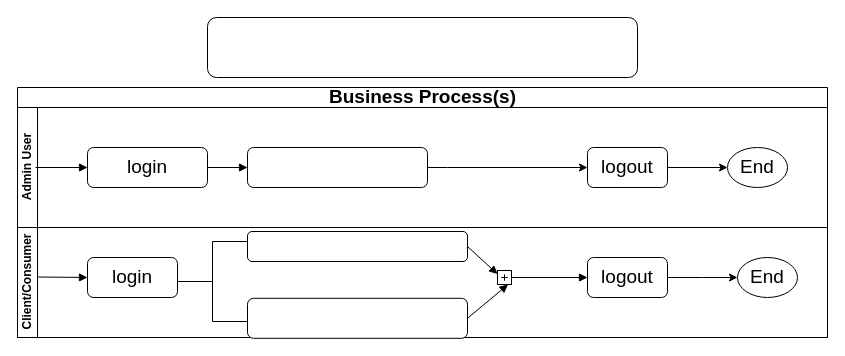
Some shapes in this 845 by 356 pixel diagram are drawn without their labels. Each missing label, with the centre of its shape:
"Business Process Flow Diagram" goes at point (422, 47).
"create Client Profile" goes at point (337, 167).
"view Merchant detail" goes at point (357, 317).
"view Transaction Report" goes at point (357, 246).
